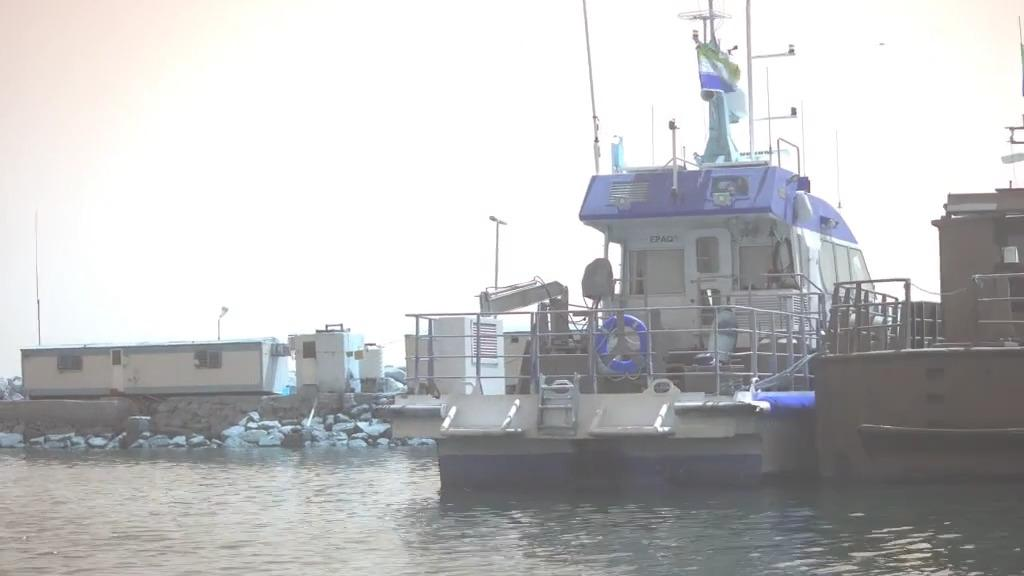PassengerShip: (427, 52, 917, 492), (815, 53, 1024, 487)
